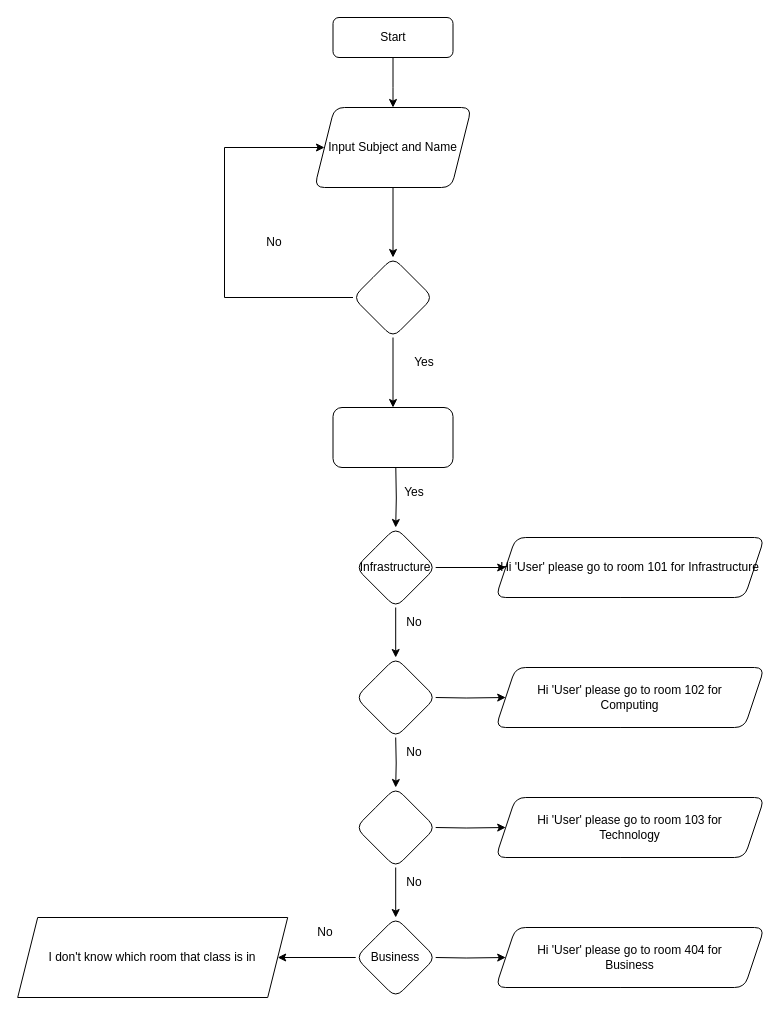
This 782x1015 diagram has some shape labels left out. The centre of each missing label's shape, as x and y in pixels:
Check Valid: point 392,297
Computing: point 395,697
Name = User Subject = Class: point 392,437
Technology: point 395,827
